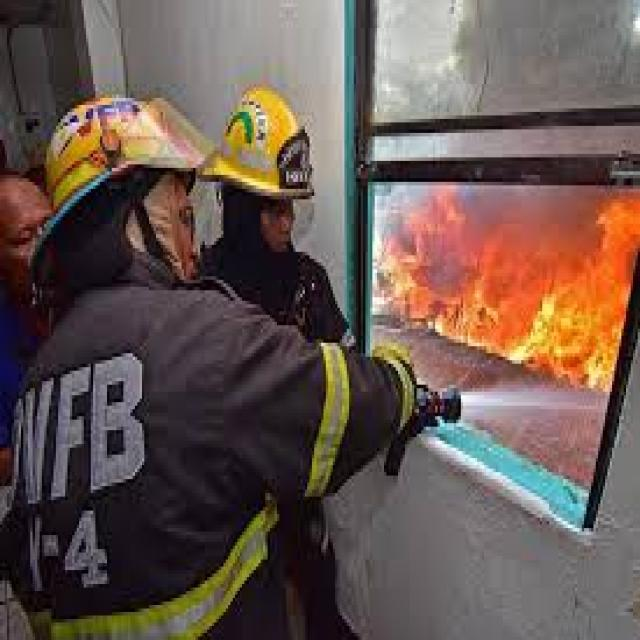Fire: (376, 194, 637, 382)
Smoke: (443, 1, 640, 130)
